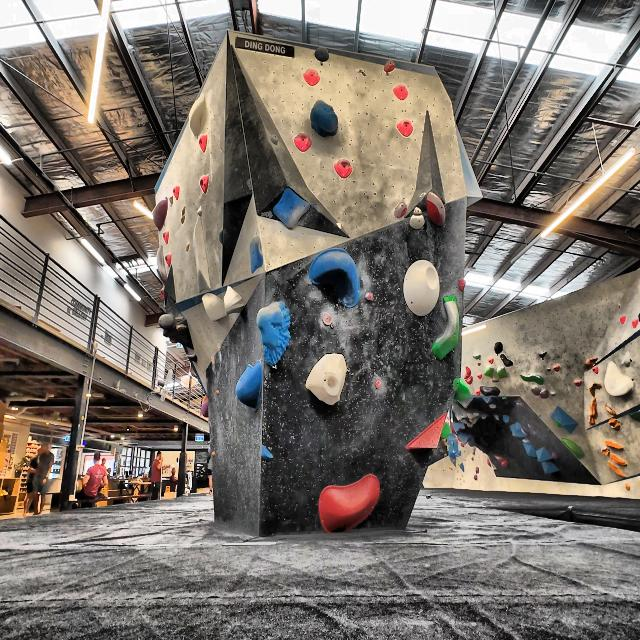Hold: (318, 471, 383, 535), (305, 245, 364, 313), (304, 346, 351, 412), (253, 303, 293, 366), (403, 259, 441, 319), (272, 183, 314, 234), (434, 296, 460, 363), (190, 217, 212, 294), (406, 411, 444, 451), (234, 362, 264, 410), (604, 361, 634, 400), (311, 102, 339, 138), (183, 96, 205, 140), (427, 190, 448, 228), (201, 293, 225, 324), (300, 64, 326, 92), (223, 284, 246, 315), (250, 232, 266, 275), (560, 436, 587, 461), (149, 200, 169, 233), (292, 129, 316, 156), (393, 118, 415, 143), (364, 287, 384, 311), (409, 205, 425, 231), (332, 160, 352, 180), (316, 311, 338, 327), (606, 462, 626, 478), (520, 372, 544, 385), (158, 314, 175, 332), (454, 382, 472, 399), (197, 132, 210, 155), (392, 85, 409, 102), (393, 202, 410, 219), (609, 452, 628, 467), (380, 61, 400, 75), (200, 392, 210, 420), (441, 418, 452, 443), (480, 386, 501, 398), (589, 397, 597, 427), (260, 443, 274, 460), (267, 131, 280, 149), (608, 416, 621, 434), (605, 437, 624, 449), (499, 353, 514, 368), (199, 176, 210, 195), (627, 407, 640, 423), (590, 382, 602, 398), (374, 376, 384, 395), (496, 366, 509, 380), (173, 181, 181, 202), (621, 351, 632, 366), (582, 358, 598, 368), (604, 402, 616, 415), (184, 351, 196, 363), (536, 348, 549, 359), (164, 230, 172, 247), (484, 366, 494, 379), (451, 374, 460, 388), (501, 411, 510, 425), (552, 417, 563, 428), (494, 342, 504, 354), (174, 314, 188, 322), (464, 364, 472, 378), (180, 205, 189, 217), (539, 390, 549, 400), (165, 254, 172, 268), (620, 314, 627, 328), (459, 276, 464, 294), (573, 379, 583, 388), (529, 386, 540, 394), (601, 447, 609, 458), (176, 324, 188, 331), (633, 319, 639, 332), (365, 292, 371, 304), (466, 376, 474, 385), (552, 363, 560, 372), (180, 215, 186, 226), (521, 438, 532, 444), (472, 351, 480, 359), (592, 366, 600, 374), (514, 421, 521, 430), (520, 429, 529, 436), (186, 242, 191, 254), (488, 403, 496, 410), (625, 483, 631, 492), (526, 419, 531, 429), (491, 379, 502, 383), (488, 357, 494, 364), (550, 451, 556, 458), (477, 374, 482, 380), (475, 390, 480, 395)
